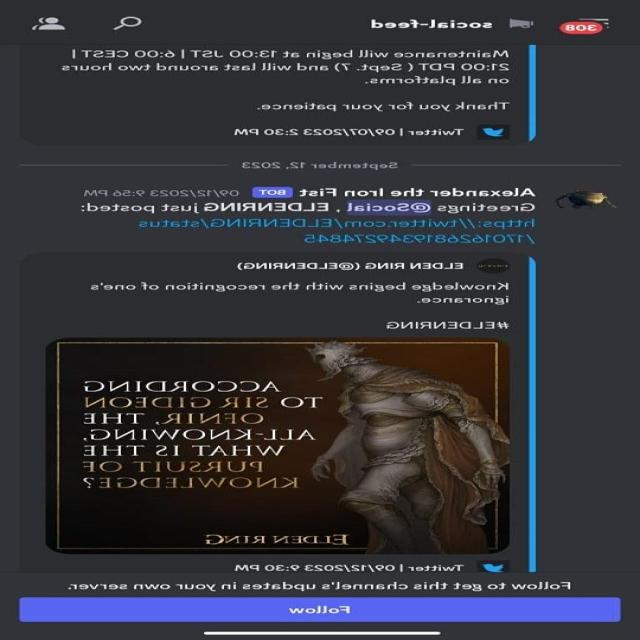BackgroundImage: (14, 256, 536, 574), (15, 42, 536, 144)
Drawer: (557, 15, 614, 37), (32, 14, 64, 33), (110, 14, 144, 31)
EditText: (48, 338, 506, 555), (553, 190, 618, 212), (475, 257, 513, 276), (476, 122, 510, 142), (473, 560, 510, 574)
Icon: (135, 216, 534, 244)
Modal: (54, 48, 509, 86), (88, 280, 512, 304), (65, 579, 572, 591), (248, 98, 511, 114), (228, 125, 466, 137), (362, 17, 535, 33), (231, 562, 464, 572), (234, 262, 464, 272), (382, 319, 512, 332), (82, 189, 240, 198), (239, 162, 398, 169)
